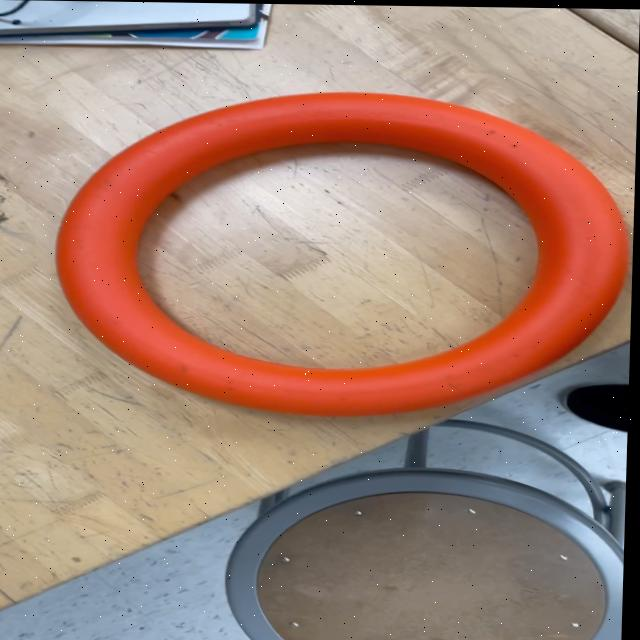note: (46, 87, 636, 423)
